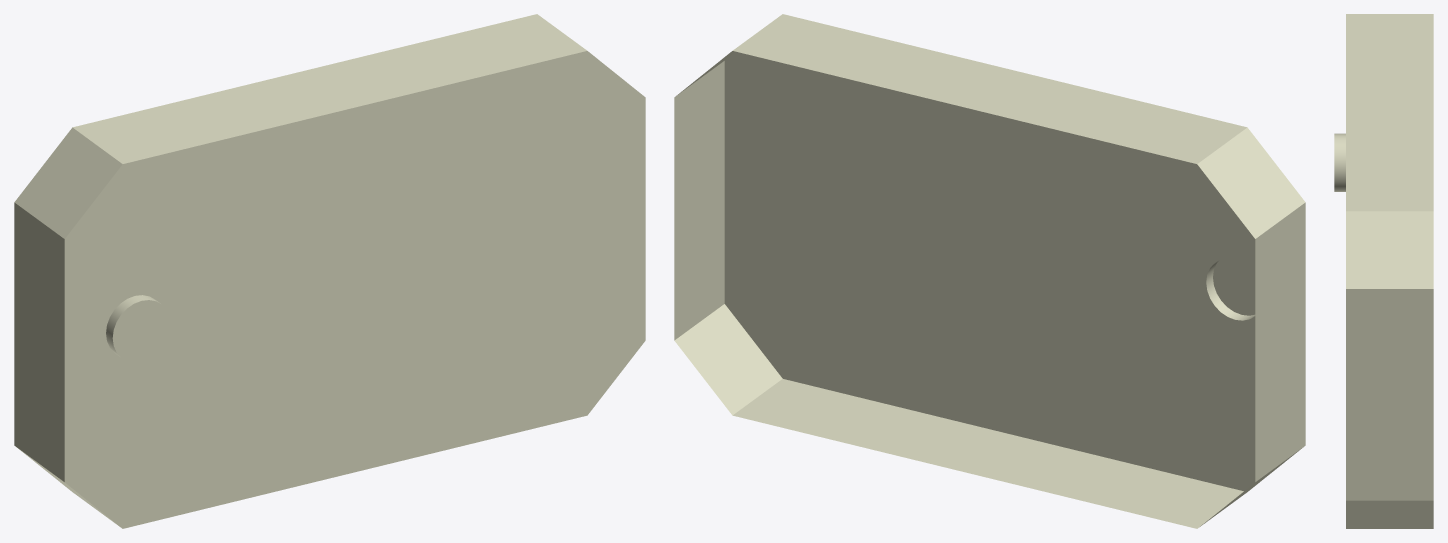
The model's file is original-101.obj.
3 views of the same model, side by side, from view 1: azimuth 30°, elevation 25°; view 2: azimuth 150°, elevation 25°; view 3: azimuth 270°, elevation 25° (orthographic). The views are drawn at different scales.
Parts seen in each view (by area): view 1: mesh143/mesh143-geometry#mesh143-geometry; view 2: mesh143/mesh143-geometry#mesh143-geometry; view 3: mesh143/mesh143-geometry#mesh143-geometry.
Boxes of the visible parts, left/top/right/bottom form: mesh143/mesh143-geometry#mesh143-geometry: left=14, top=14, right=645, bottom=528; mesh143/mesh143-geometry#mesh143-geometry: left=674, top=14, right=1305, bottom=528; mesh143/mesh143-geometry#mesh143-geometry: left=1334, top=14, right=1433, bottom=528.
Bounding box in the file's own units: 0.1126 × 0.0676 × 0.0191.
